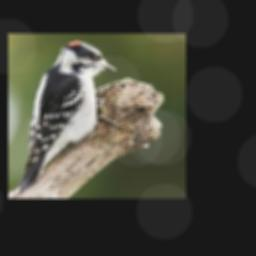Woodpecker: (12, 40, 124, 193)
